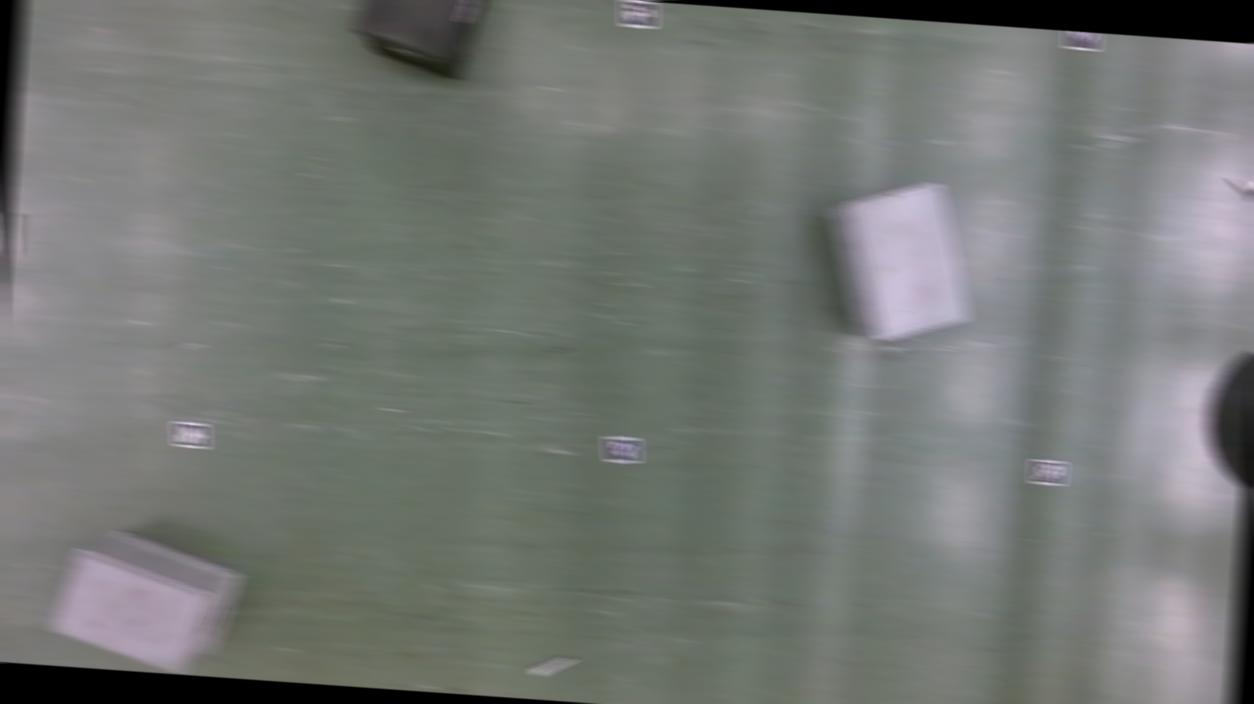probes: (529, 653, 576, 679), (2, 210, 23, 256), (1224, 176, 1254, 208)
rako: (815, 166, 984, 353), (346, 0, 495, 80)
